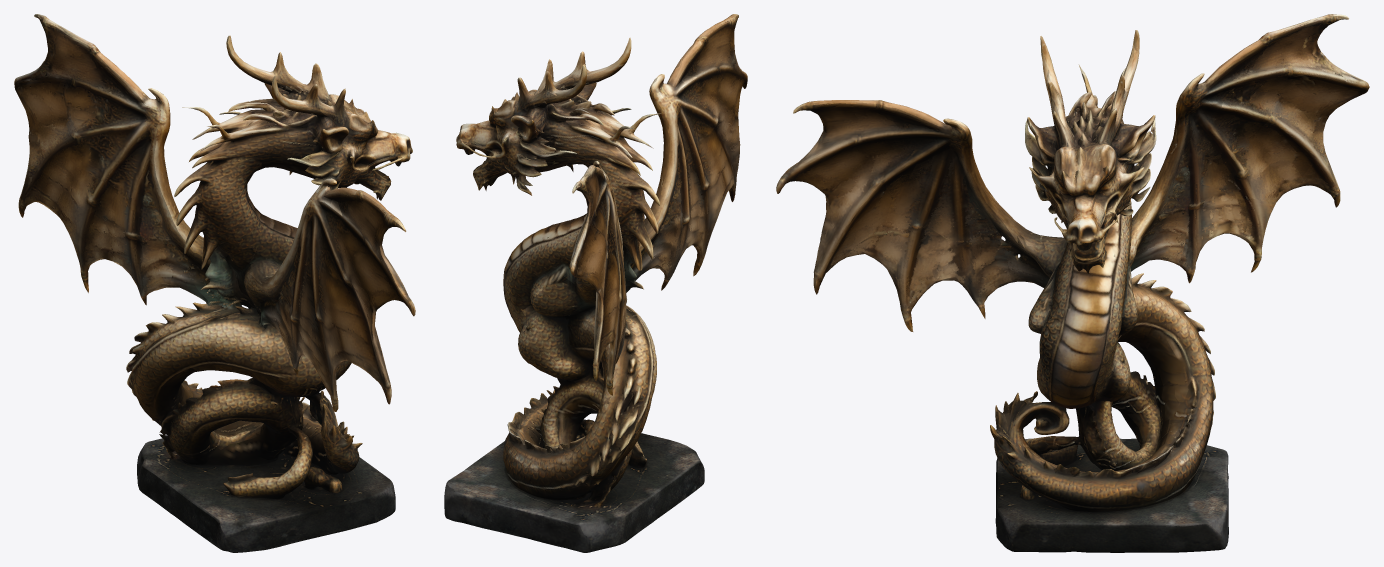
The picture shows the model from 3 angles, left to right: view 1: azimuth 30°, elevation 25°; view 2: azimuth 150°, elevation 25°; view 3: azimuth 270°, elevation 25°; orthographic projection. The views are drawn at different scales.
Visible parts, largest first — view 1: world; view 2: world; view 3: world.
Part boxes in pixels (x1,y1,x2,y2): world: (14, 14, 415, 552); world: (444, 14, 747, 552); world: (776, 14, 1369, 552).
Size of the model in its own units: 0.5331 by 0.8711 by 0.996.
1 material, 1 textured.
